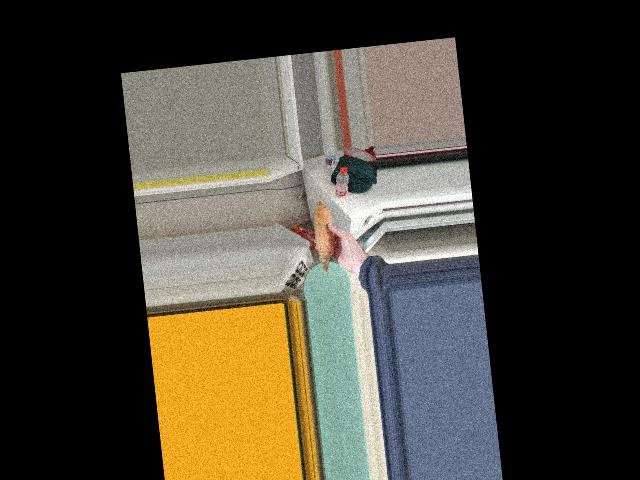sweet_potato: (312, 202, 335, 264)
